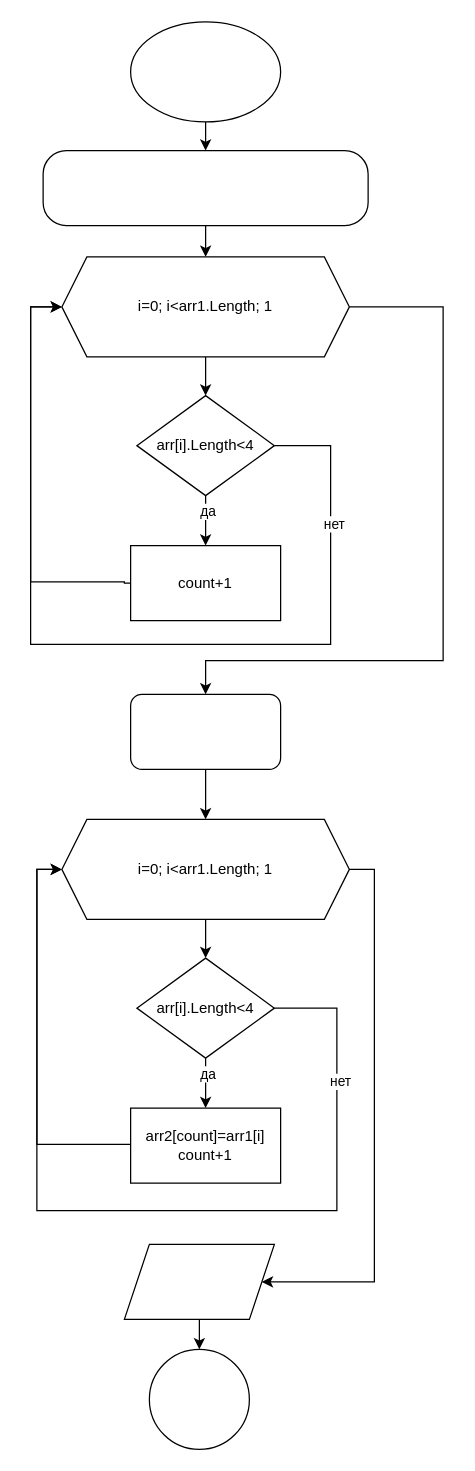
Some shapes in this 475 by 1471 pixel diagram are drawn without their labels. Here are the shapes that lost their labels. From the top down, the box of each, then its label:
(42, 149, 368, 226): arr1="Sunday", "Mon", "Tuesday", "Wed", "Thu", "Friday", "Sat" count=0
(129, 693, 281, 769): arr2[count] count=0
(123, 1243, 274, 1319): arr2
